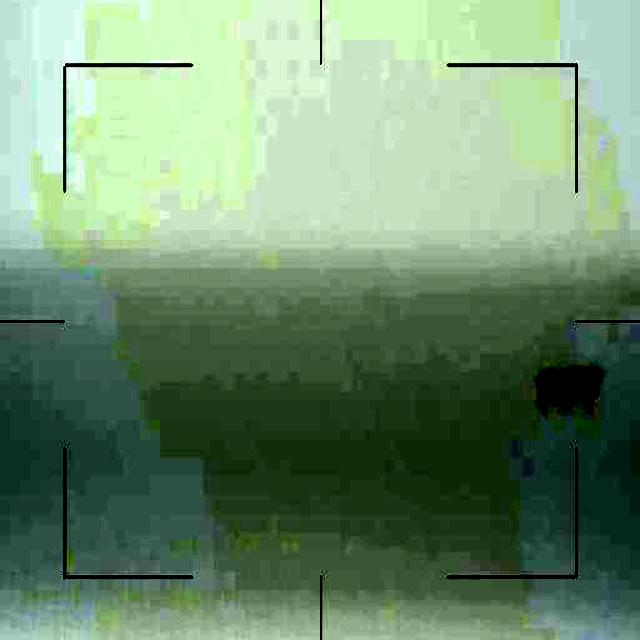bird: (534, 365, 605, 416)
